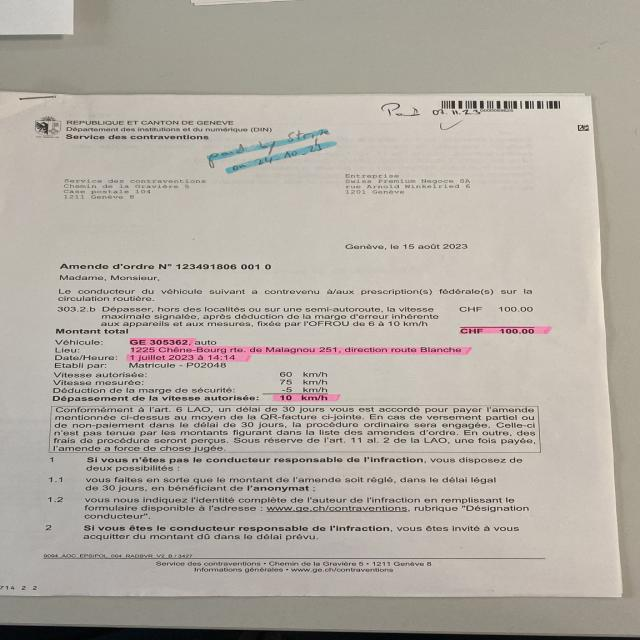paper-document-: (0, 91, 621, 596)
